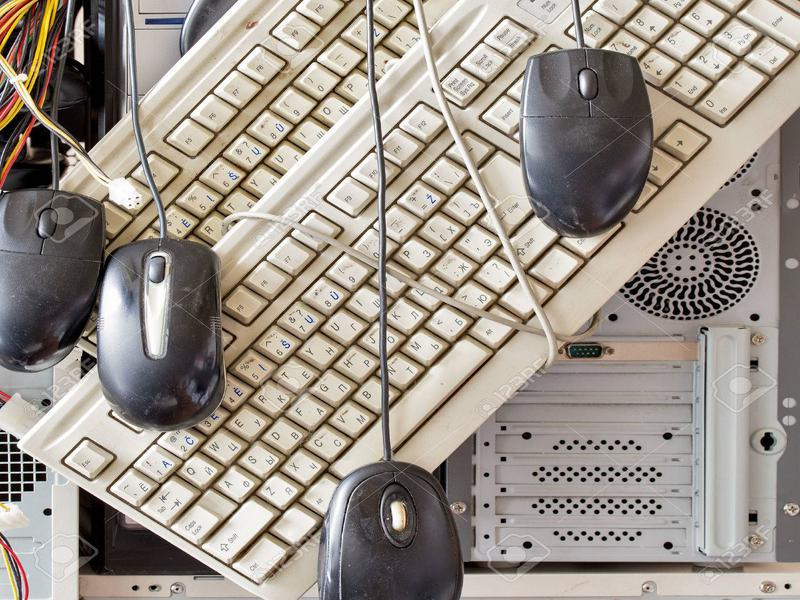keyboard: (1, 3, 800, 600)
mouse: (516, 44, 656, 236), (96, 238, 227, 432), (311, 455, 471, 600), (1, 178, 107, 375)
